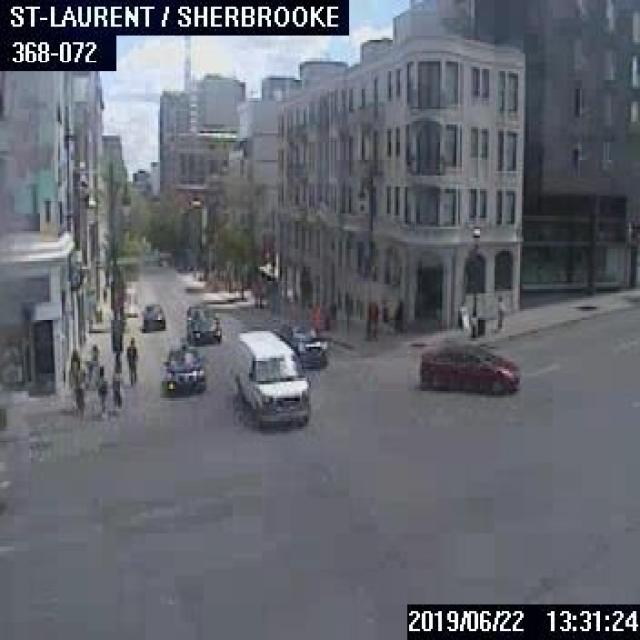pedestrian: (94, 363, 105, 417), (84, 343, 97, 388), (72, 371, 86, 412), (126, 335, 136, 385), (111, 364, 121, 414), (67, 347, 79, 387), (494, 293, 503, 327), (458, 299, 467, 328)
vehicle: (229, 329, 309, 422), (416, 342, 520, 396), (161, 345, 204, 396), (276, 324, 324, 366), (185, 301, 219, 343), (138, 300, 164, 331)
